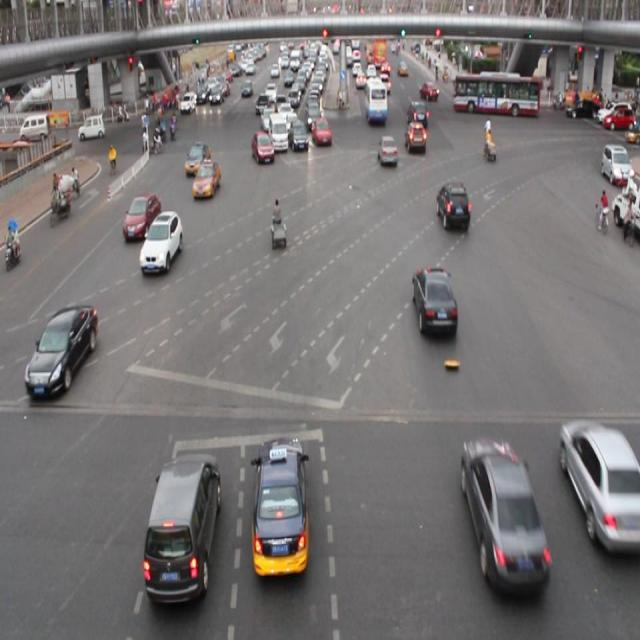car: (462, 440, 546, 591), (559, 419, 640, 550), (250, 436, 309, 575), (23, 304, 98, 396), (411, 265, 456, 339), (139, 210, 182, 271), (122, 194, 161, 241), (437, 182, 469, 232), (192, 159, 220, 201), (186, 141, 210, 177), (252, 128, 274, 166), (288, 117, 308, 154), (404, 119, 425, 154), (377, 133, 398, 168), (310, 116, 332, 148)
truck: (144, 453, 222, 607), (267, 112, 290, 152)
